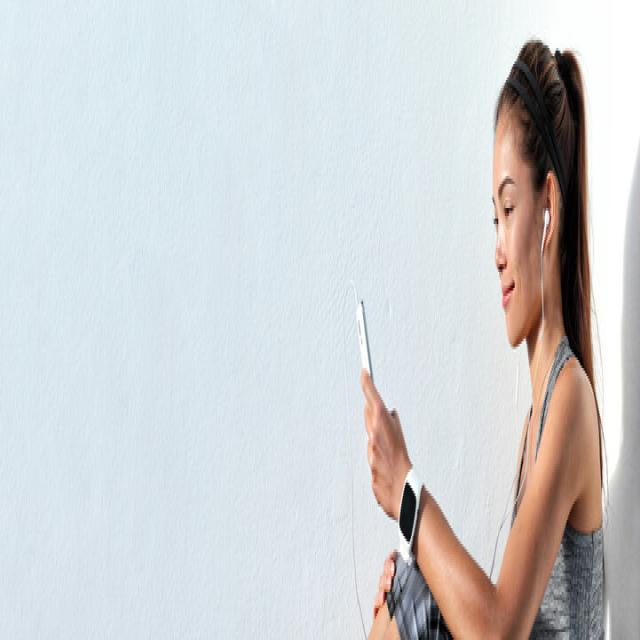Earphone: (340, 204, 551, 640)
